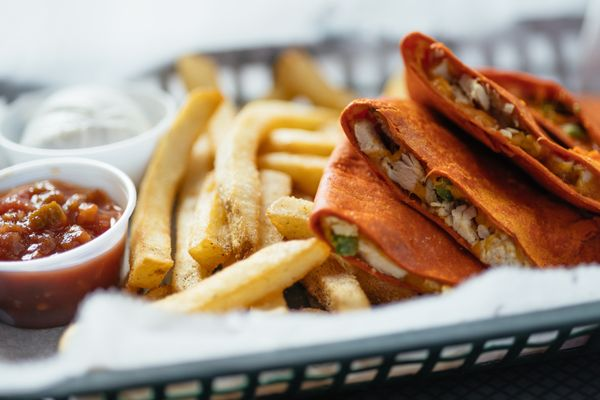sushi: (0, 156, 137, 329), (0, 81, 177, 182)
